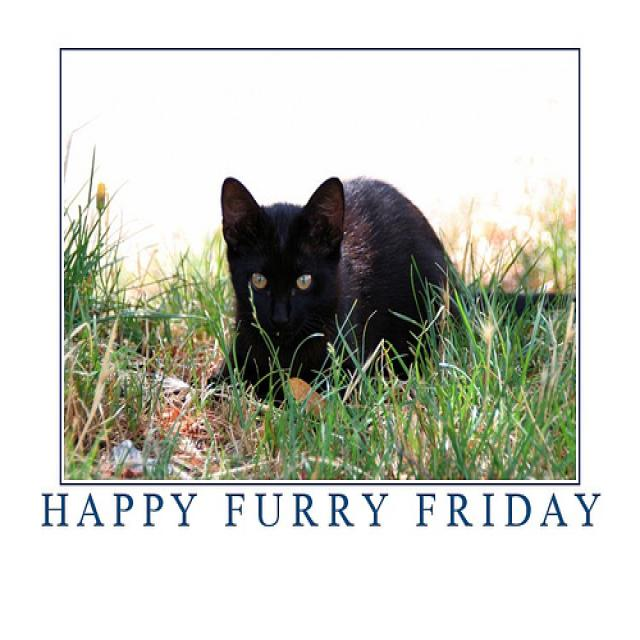left eye: (293, 270, 314, 292)
